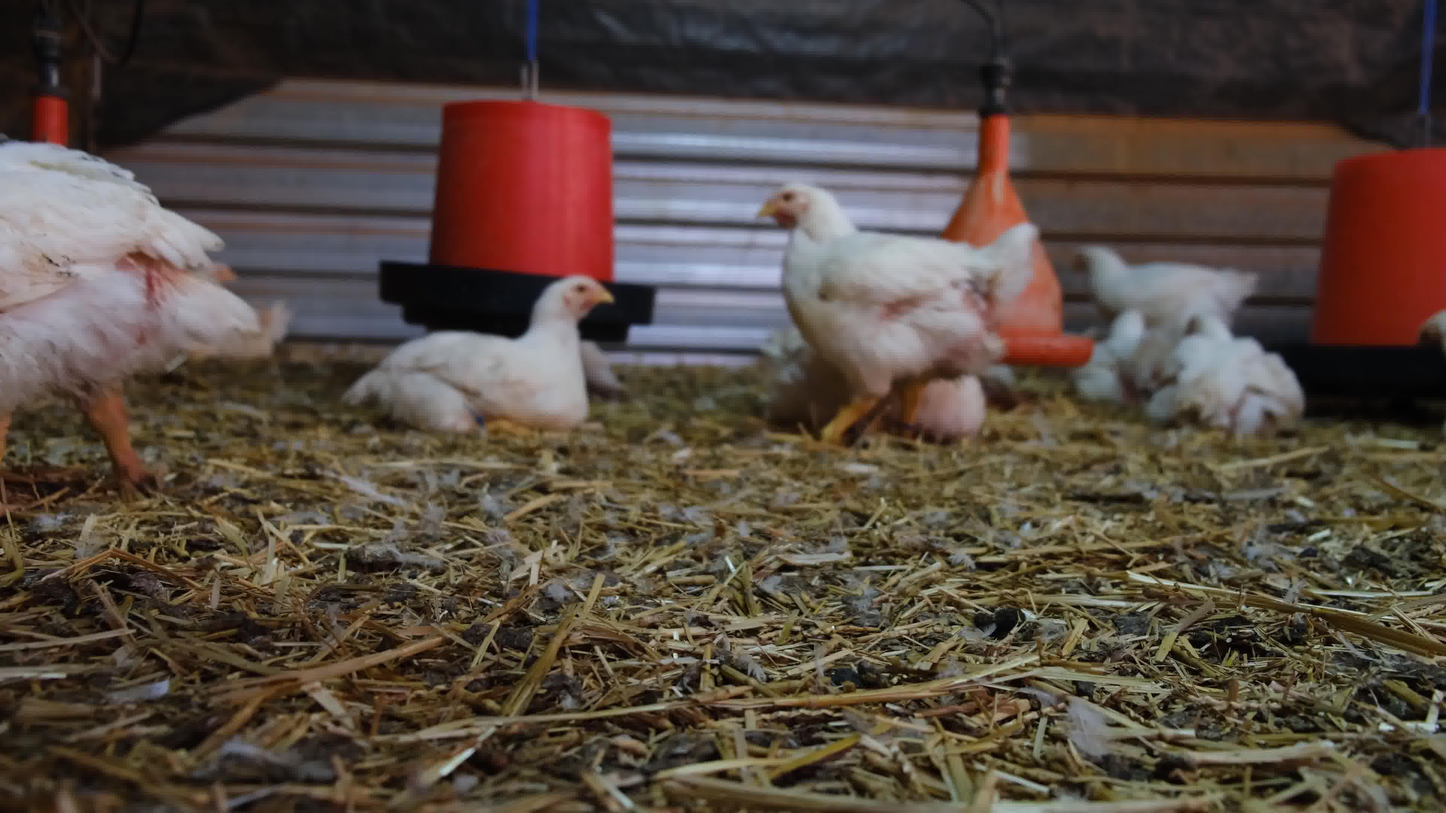AbNormal: (340, 269, 614, 432), (1159, 313, 1313, 441), (1064, 313, 1146, 411)
Normal: (0, 125, 269, 547), (759, 177, 1040, 455), (1072, 241, 1253, 328)
